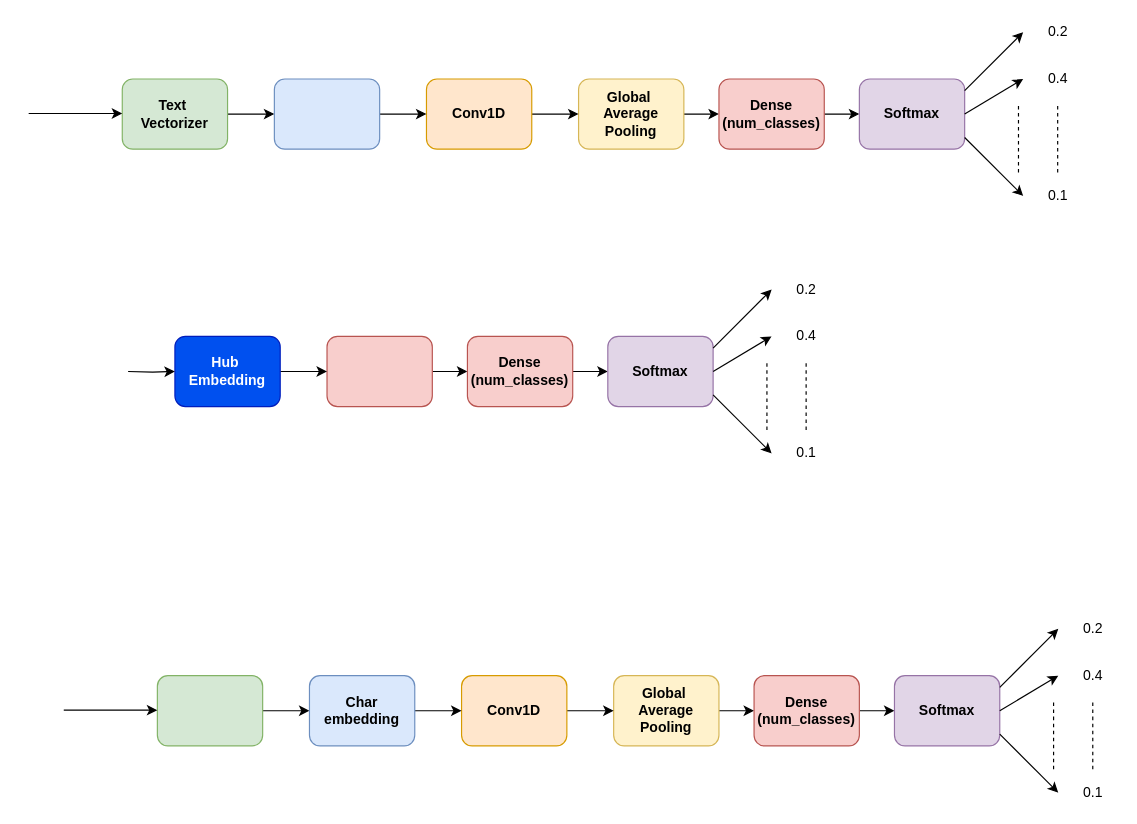
Some shapes in this 1137 by 824 pixel diagram are drawn without their labels. Each missing label, with the centre of its shape:
"Char vectorizer" belongs at (x=209, y=710).
"Dense" belongs at (x=379, y=371).
"Token embedding" belongs at (x=326, y=113).
